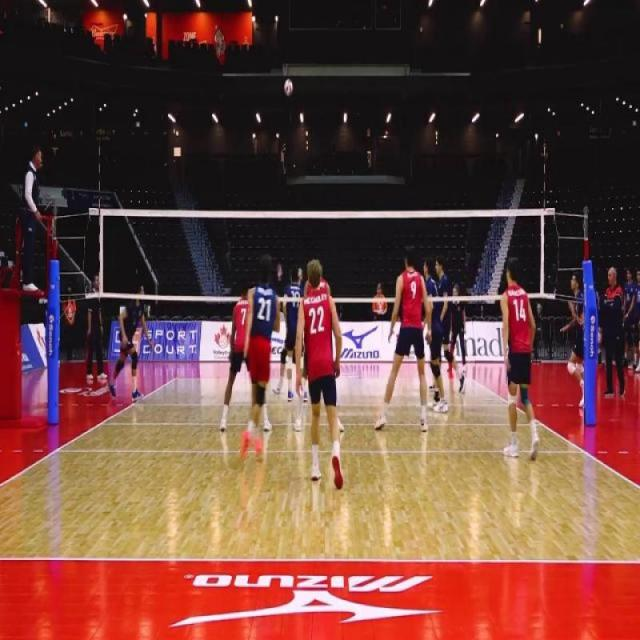volleyball: (283, 78, 294, 99)
